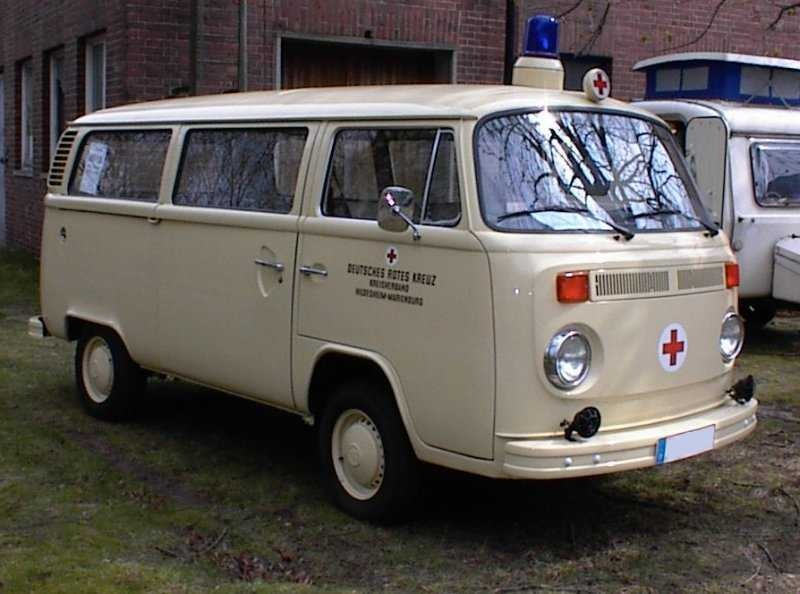Ambulance: (40, 71, 790, 516)
